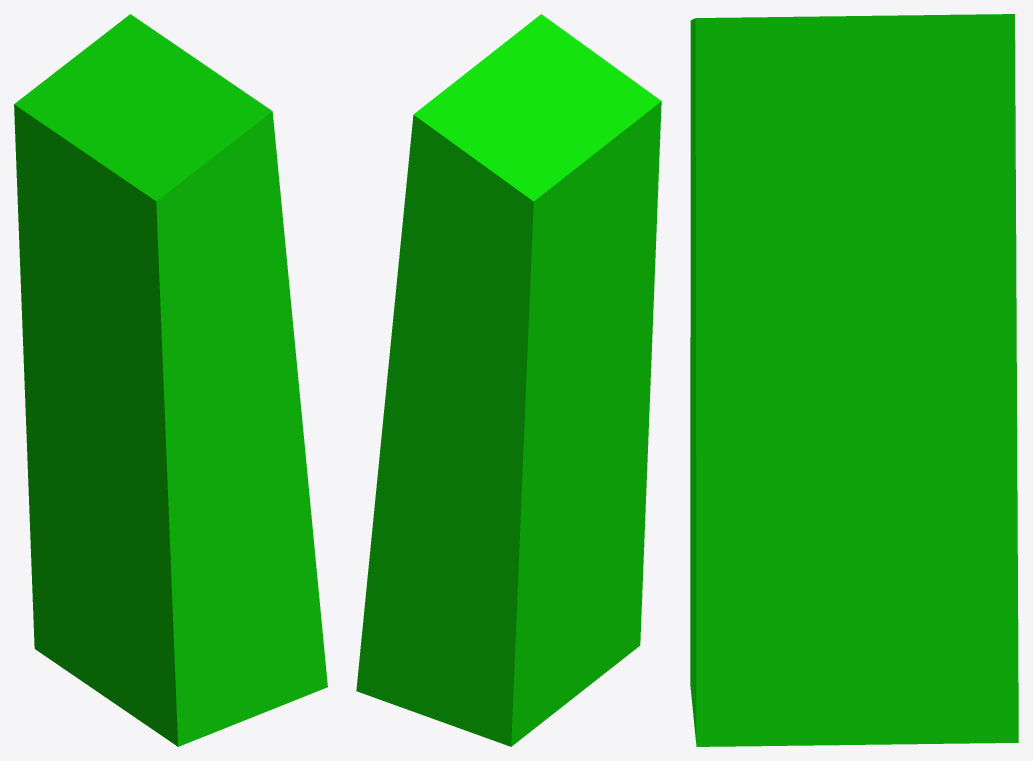
Rendered from sm_castle_039.fbx.
3 renders of one model, left to right at view 1: azimuth 30°, elevation 25°; view 2: azimuth 150°, elevation 25°; view 3: azimuth 270°, elevation 25°, orthographic. The views are drawn at different scales.
Visible parts, largest first — view 1: sm_castle.039; view 2: sm_castle.039; view 3: sm_castle.039.
Boxes of the visible parts, x1,y1,x2,y2 form: sm_castle.039: (14,14,327,746); sm_castle.039: (356,14,661,746); sm_castle.039: (690,14,1018,746).
Size of the model in its own units: 225 by 726 by 300.
